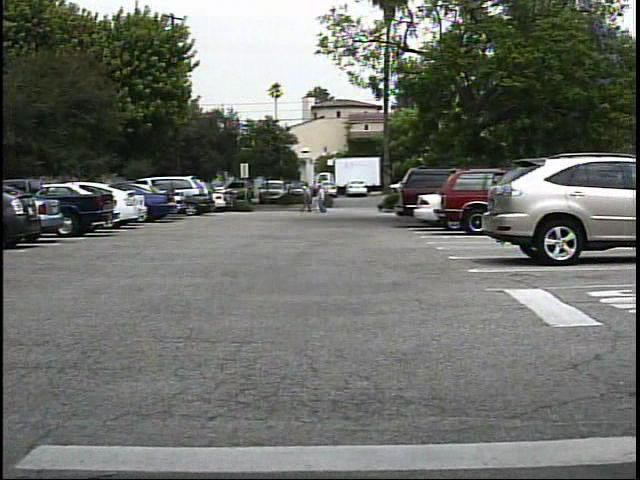person: (314, 185, 332, 215), (299, 185, 314, 215), (310, 186, 323, 217)
